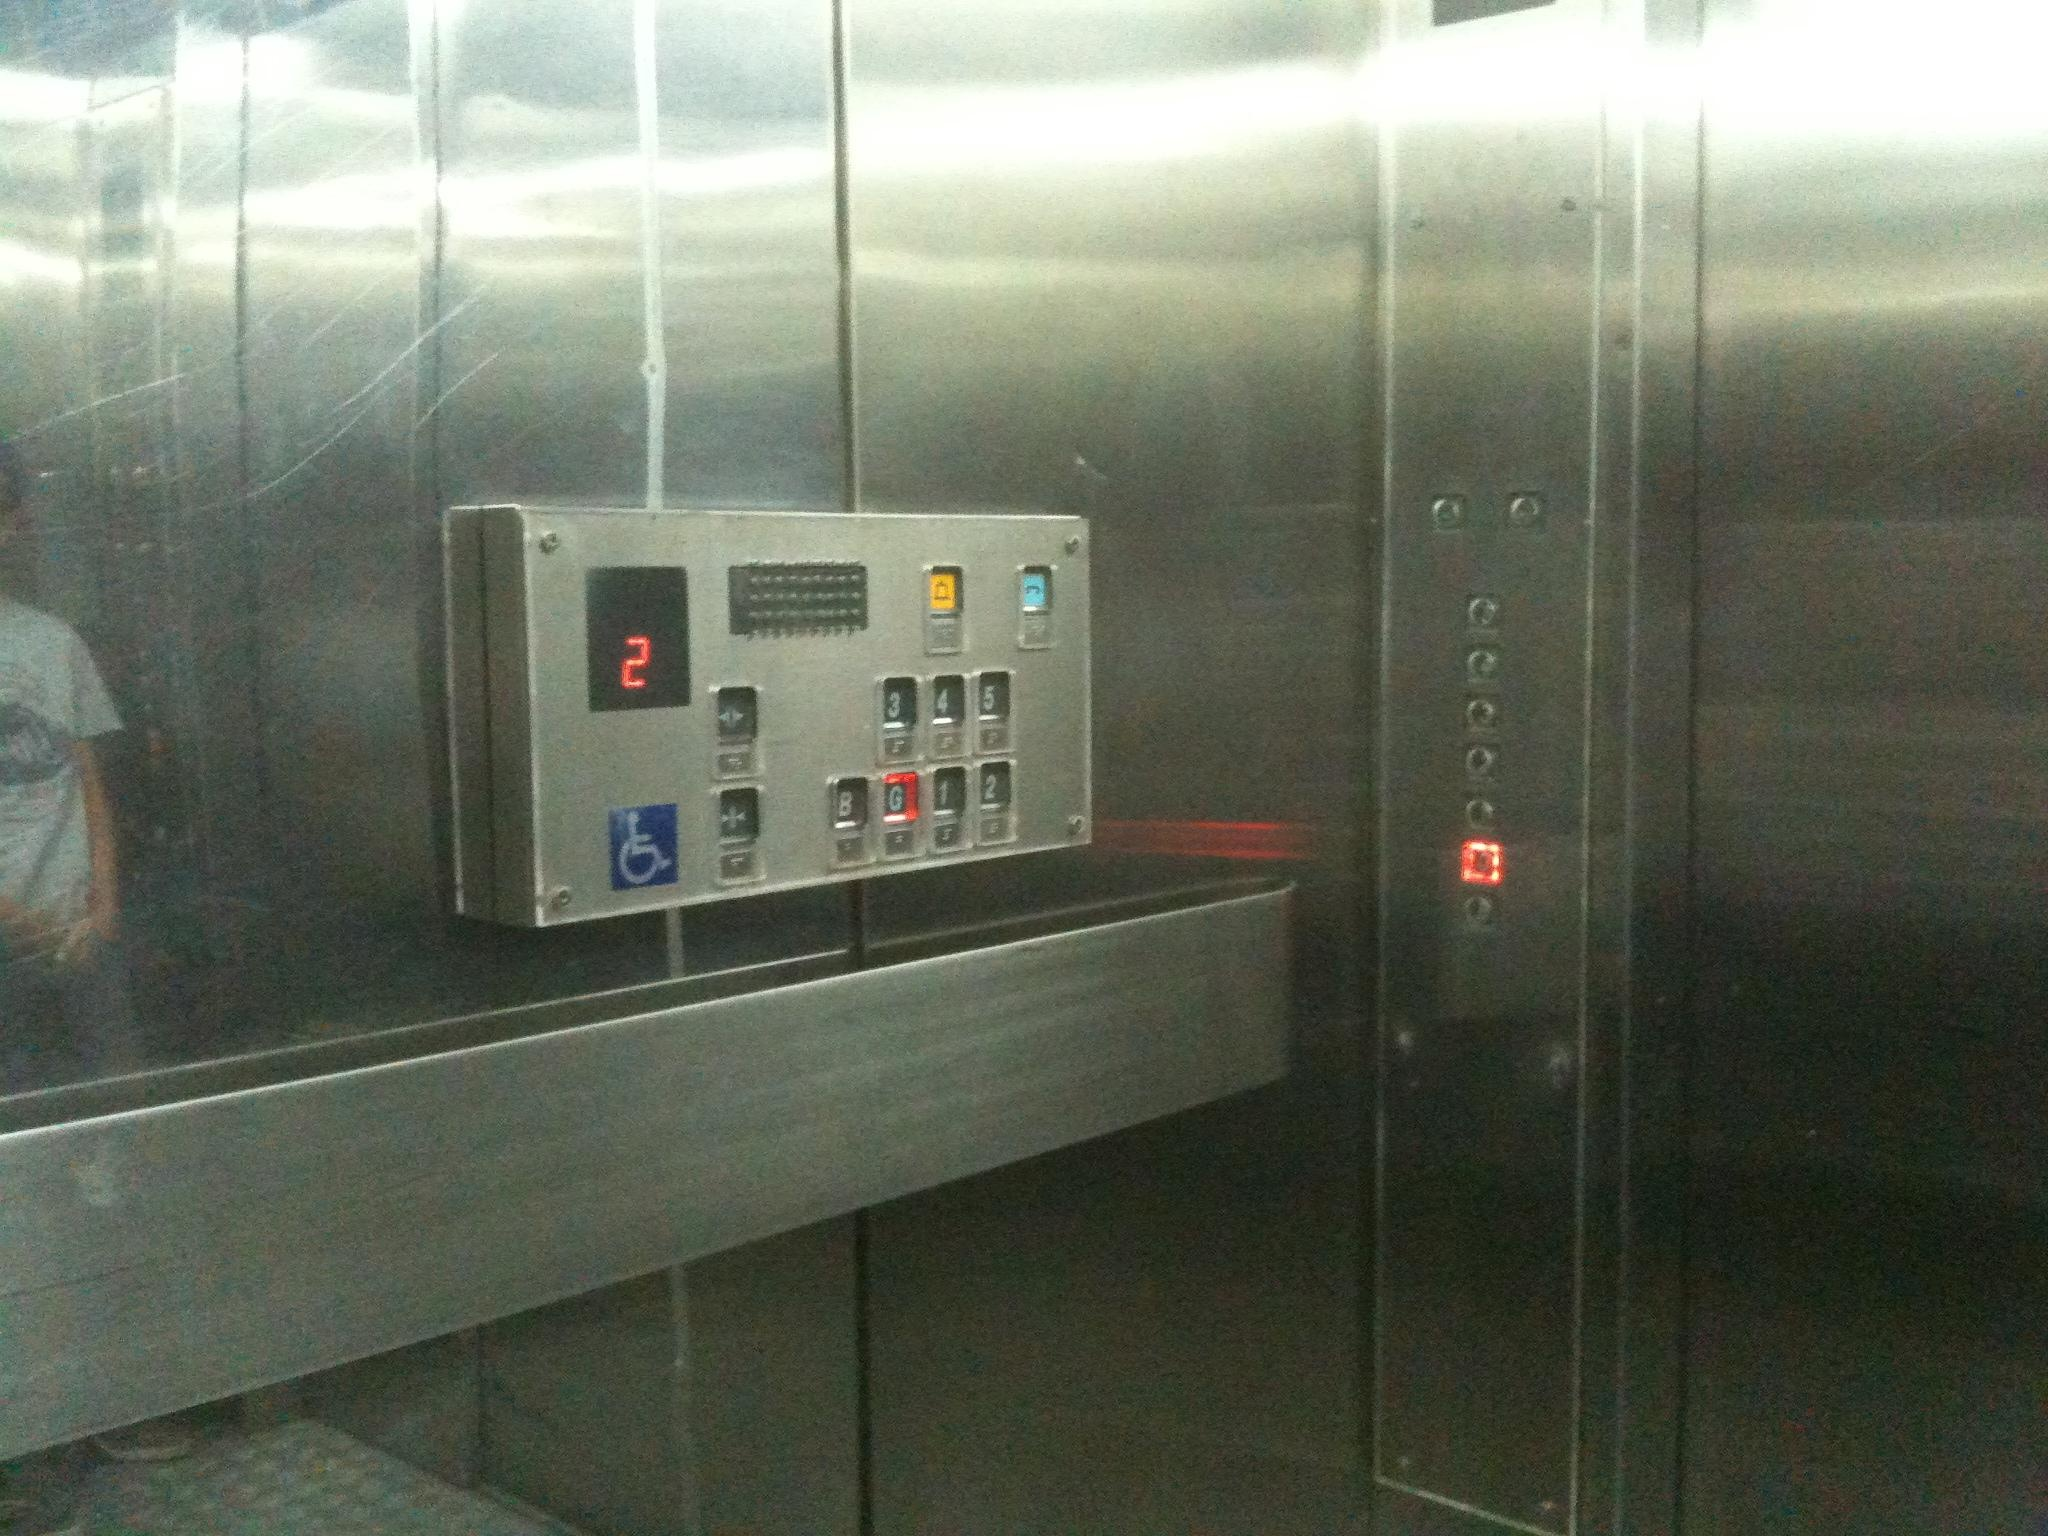1: (927, 762, 971, 816)
2: (976, 757, 1014, 808)
3: (877, 671, 921, 733)
4: (927, 670, 968, 724)
5: (976, 668, 1014, 720)
B: (829, 771, 871, 833)
CH: (610, 802, 679, 891)
G: (877, 766, 922, 826)
alarm: (926, 561, 968, 620)
blur: (1459, 687, 1505, 736), (1455, 887, 1500, 936), (1461, 589, 1506, 636), (1459, 639, 1505, 686), (1459, 741, 1505, 787), (1458, 789, 1503, 836), (1459, 839, 1505, 886), (1506, 490, 1546, 534), (1429, 490, 1467, 534)
call: (1018, 560, 1056, 613)
close: (716, 783, 764, 841)
led: (584, 565, 692, 713)
open: (713, 682, 761, 744)
